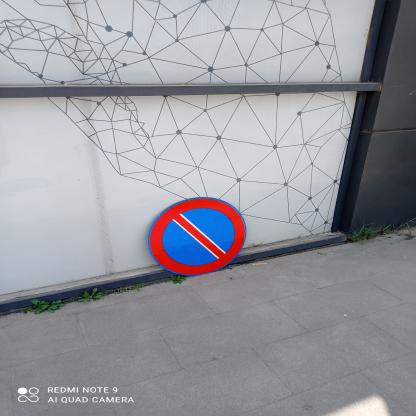No Waiting: (149, 199, 248, 277)
